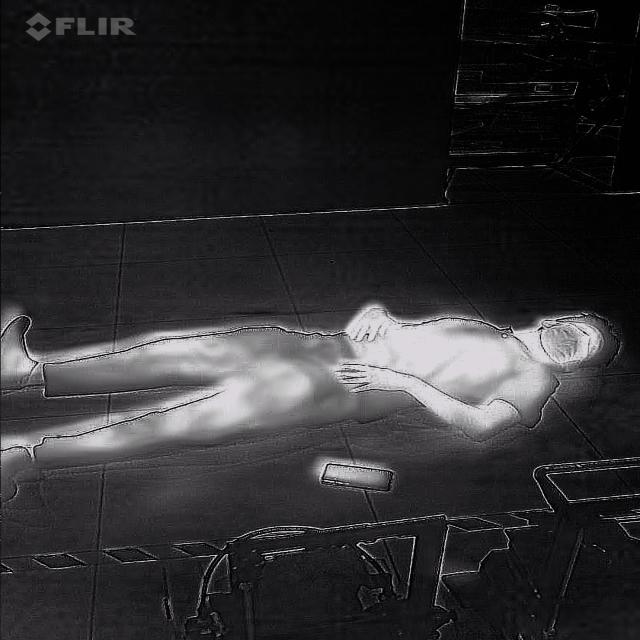Victim: (0, 296, 628, 510)
